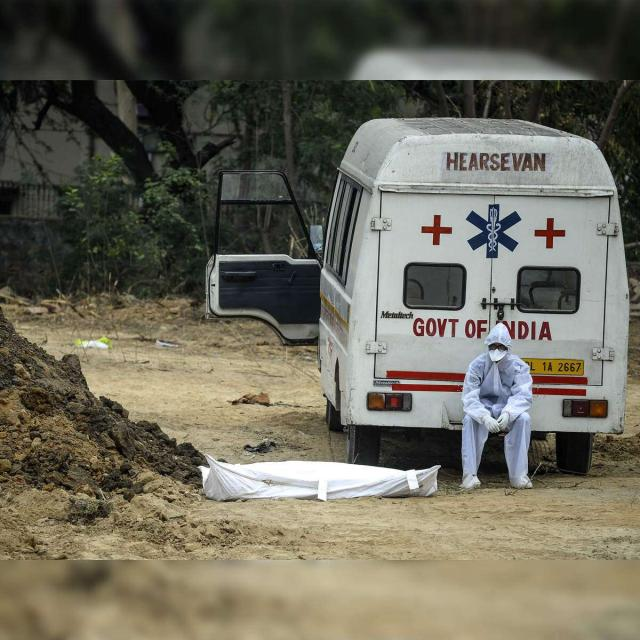emergency: (206, 120, 629, 474)
